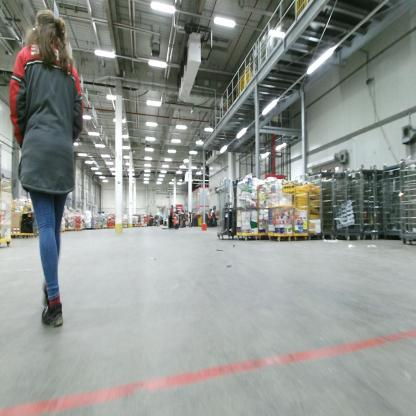pallet_truck: (159, 212, 181, 232), (178, 209, 189, 229), (146, 214, 156, 229)
